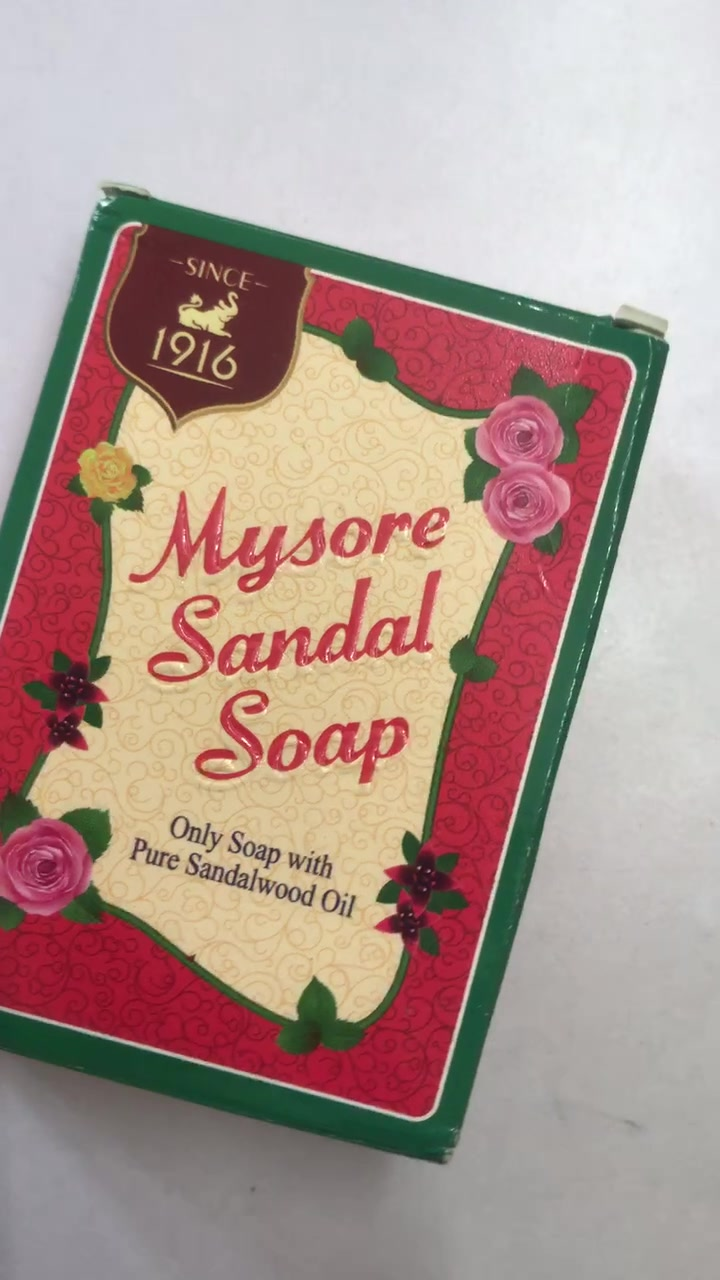mysore sandal soap: (3, 189, 667, 1164)
